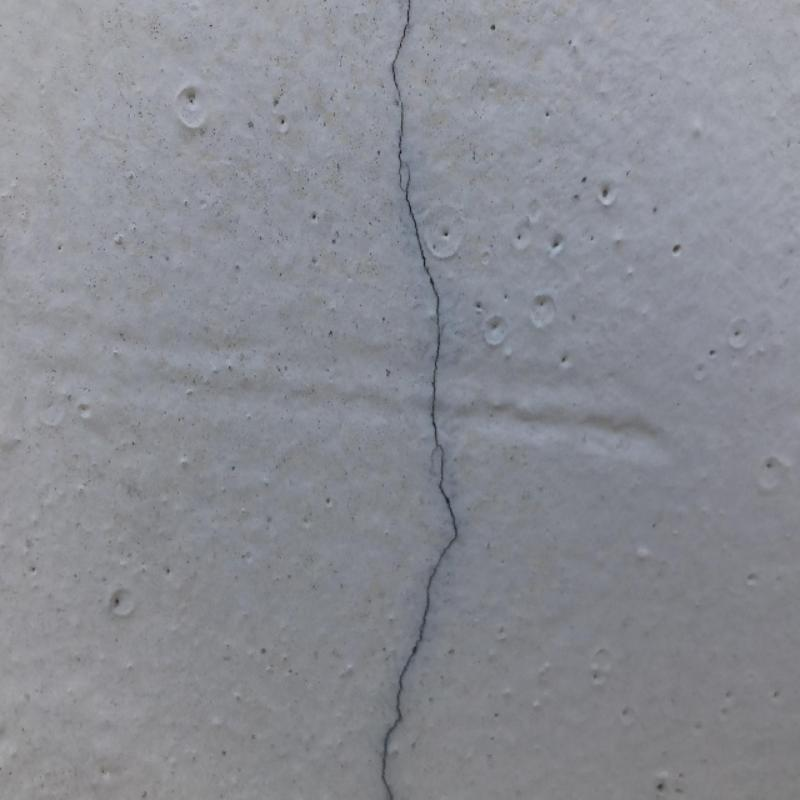crack: (377, 8, 464, 791)
